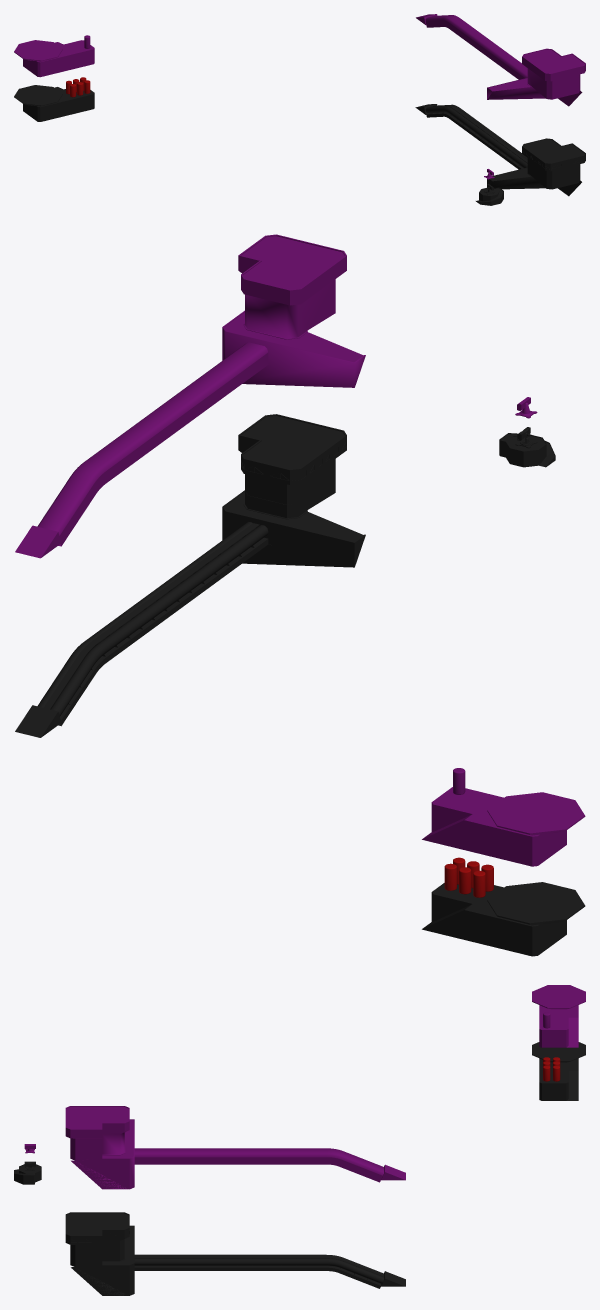
Rendered from JetpacksAndMissiles_Environment.fbx.
3 views of the same model, one above another, from view 1: azimuth 30°, elevation 25°; view 2: azimuth 150°, elevation 25°; view 3: azimuth 270°, elevation 25° (orthographic). The views are drawn at different scales.
Visible parts, largest first — view 1: Jetpacks_BuildingPhysics_Large01, Jetpacks_Building_Large01, Jetpacks_Building_Platform02, Jetpacks_BuildingPhysics_Platform02, Jetpacks_Building_Platform01; view 2: Jetpacks_Building_Large01, Jetpacks_BuildingPhysics_Large01, Jetpacks_Building_Platform02, Jetpacks_BuildingPhysics_Platform02, Jetpacks_Building_Platform01; view 3: Jetpacks_Building_Large01, Jetpacks_BuildingPhysics_Large01, Jetpacks_BuildingPhysics_Platform02, Jetpacks_Building_Platform02, Jetpacks_Building_Platform01.
Boxes of the visible parts, box(x1,y1,x2,y2) form: Jetpacks_BuildingPhysics_Large01: box(416, 14, 585, 106); Jetpacks_Building_Large01: box(415, 104, 585, 196); Jetpacks_Building_Platform02: box(14, 77, 94, 121); Jetpacks_BuildingPhysics_Platform02: box(14, 40, 94, 77); Jetpacks_Building_Platform01: box(476, 187, 503, 205); Jetpacks_Building_Large01: box(15, 414, 365, 737); Jetpacks_BuildingPhysics_Large01: box(15, 234, 365, 558); Jetpacks_Building_Platform02: box(422, 857, 585, 956); Jetpacks_BuildingPhysics_Platform02: box(422, 787, 585, 866); Jetpacks_Building_Platform01: box(499, 433, 555, 467); Jetpacks_Building_Large01: box(65, 1212, 405, 1295); Jetpacks_BuildingPhysics_Large01: box(65, 1106, 405, 1189); Jetpacks_BuildingPhysics_Platform02: box(532, 985, 585, 1047); Jetpacks_Building_Platform02: box(532, 1042, 585, 1100); Jetpacks_Building_Platform01: box(14, 1164, 41, 1184).
Size of the model in its own units: 202 by 76.31 by 234.
